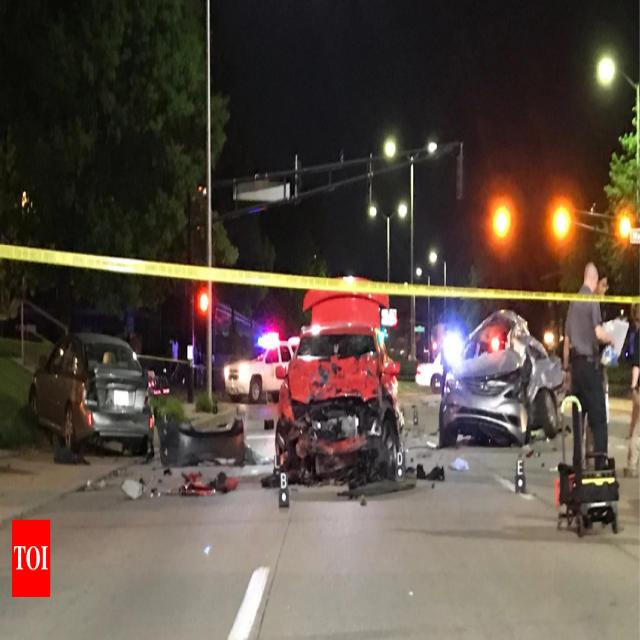accident: (275, 291, 404, 482), (439, 309, 564, 446)
car: (29, 334, 152, 453)
